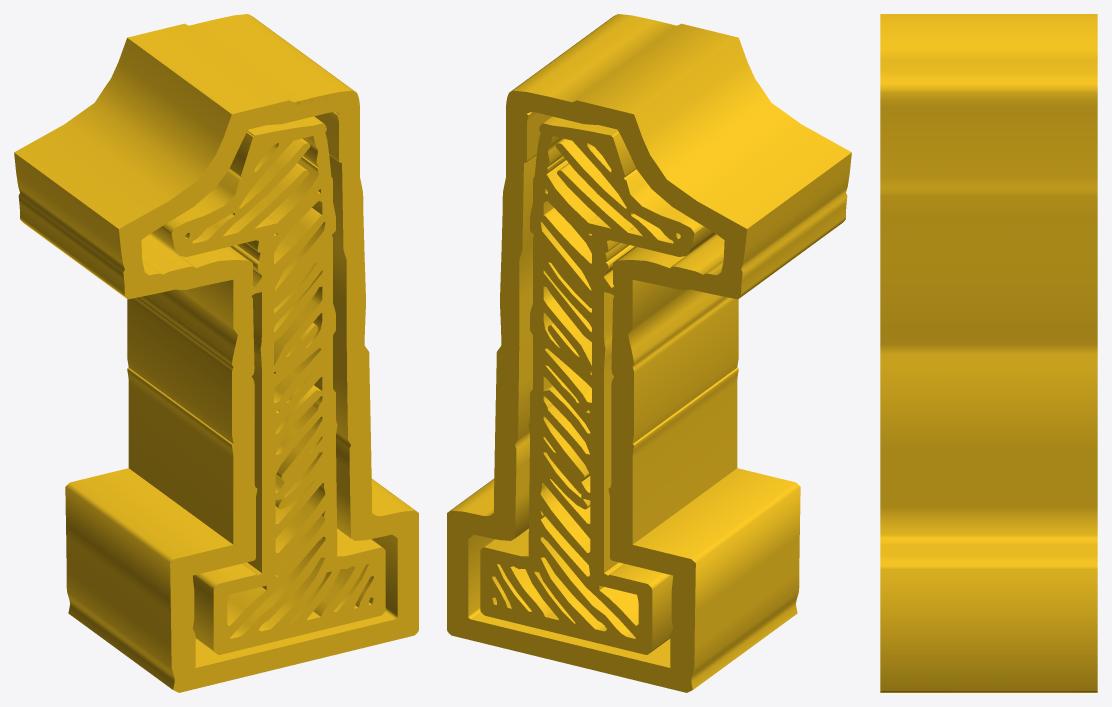
The model's file is satu 1.fbx.
3 views of the same model, side by side, from view 1: azimuth 30°, elevation 25°; view 2: azimuth 150°, elevation 25°; view 3: azimuth 270°, elevation 25° (orthographic). The views are drawn at different scales.
Visible parts, largest first — view 1: node_id51; view 2: node_id51; view 3: node_id51.
Part boxes in pixels (x1,y1,x2,y2): node_id51: (14,14,418,692); node_id51: (447,14,851,692); node_id51: (880,14,1097,692).
Bounding box in the file's own units: 0.0248 × 0.0447 × 0.015.
1 material, 1 textured.
